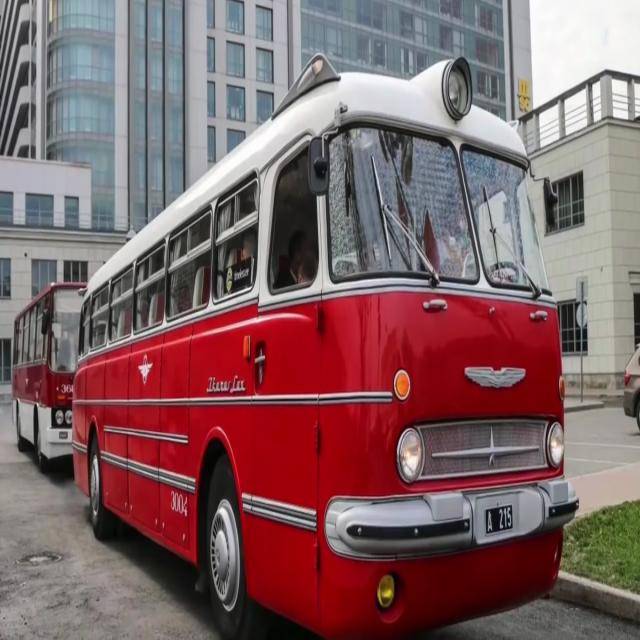bus: (71, 48, 585, 640)
